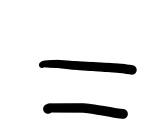eqv: (39, 60, 137, 119)
